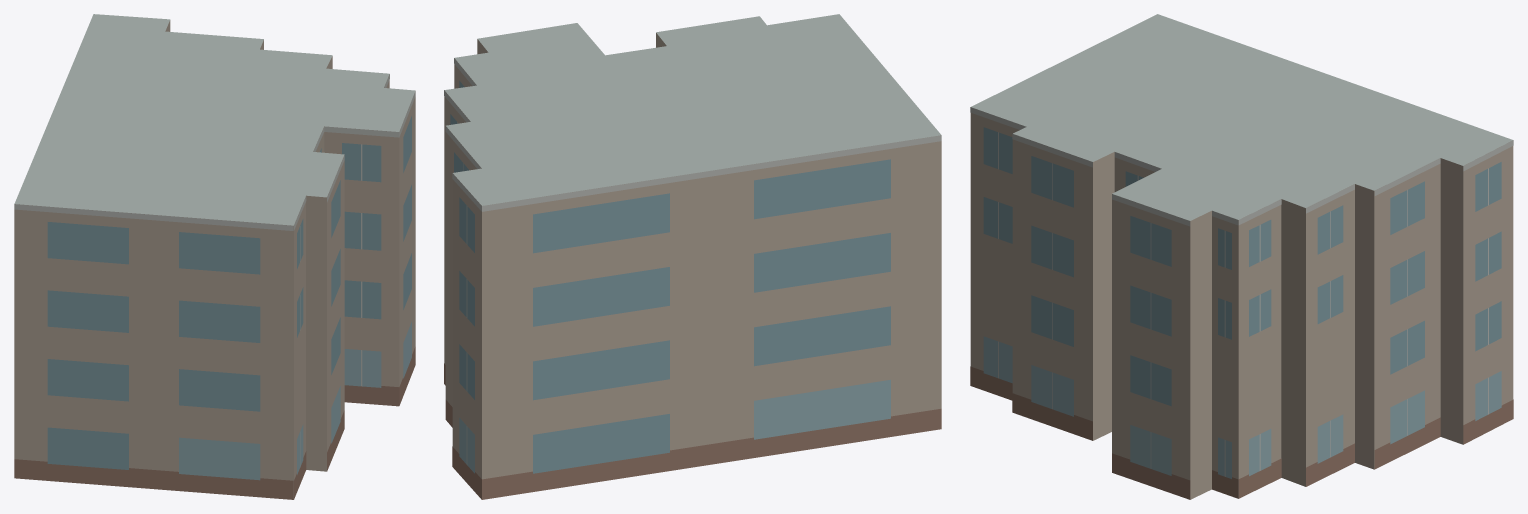
File: survey-upis-32459416.glb
3 renders of one model, left to right at view 1: azimuth 30°, elevation 25°; view 2: azimuth 150°, elevation 25°; view 3: azimuth 270°, elevation 25°, orthographic. The views are drawn at different scales.
Visible parts, largest first — view 1: survey-upis-32459416.tmp; view 2: survey-upis-32459416.tmp; view 3: survey-upis-32459416.tmp.
Part boxes in pixels (x1,y1,x2,y2): survey-upis-32459416.tmp: [14, 14, 415, 499]; survey-upis-32459416.tmp: [444, 14, 941, 499]; survey-upis-32459416.tmp: [970, 14, 1513, 499].
Bounding box in the file's own units: 19.43 × 12.2 × 21.53.
